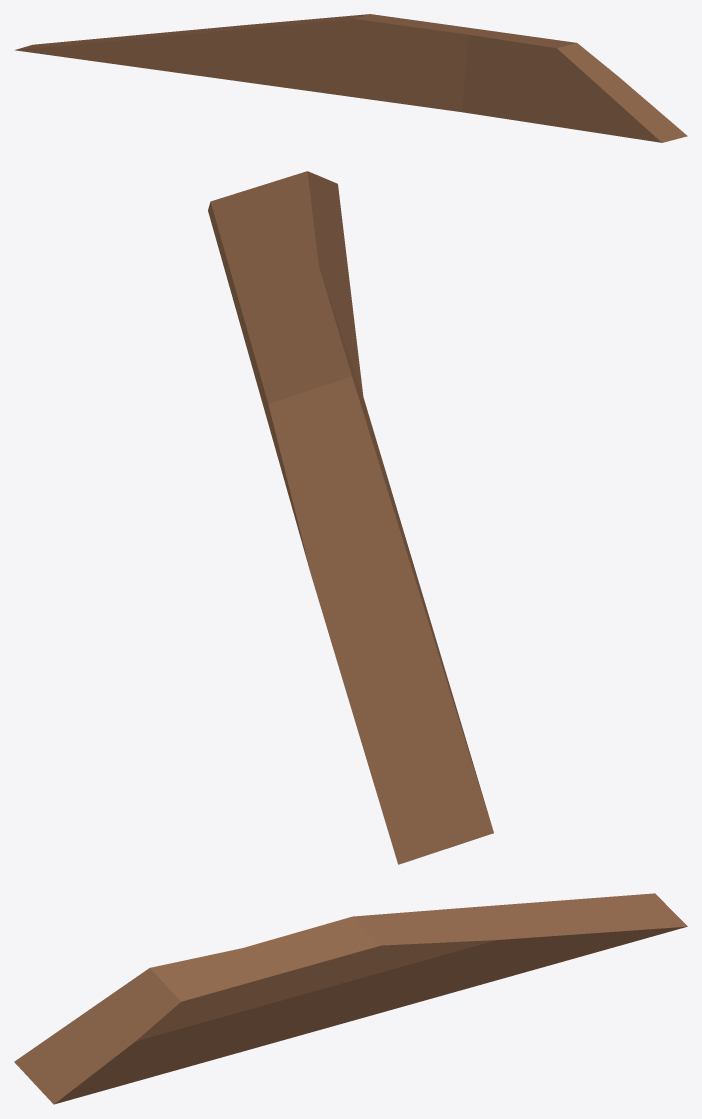
Rendered from WoodCellCube_003_cell_024.fbx.
The picture shows the model from 3 angles, top to bottom: view 1: azimuth 30°, elevation 25°; view 2: azimuth 150°, elevation 25°; view 3: azimuth 270°, elevation 25°; orthographic projection. The views are drawn at different scales.
Visible parts, largest first — view 1: WoodCellCube_003_cell_024; view 2: WoodCellCube_003_cell_024; view 3: WoodCellCube_003_cell_024.
Boxes of the visible parts, x1=… form: WoodCellCube_003_cell_024: x1=14, y1=14, x2=687, y2=142; WoodCellCube_003_cell_024: x1=208, y1=171, x2=493, y2=864; WoodCellCube_003_cell_024: x1=14, y1=893, x2=687, y2=1104.
Size of the model in its own units: 1.34 by 0.2527 by 1.05.
Materials: 1 (1 with a texture image).
